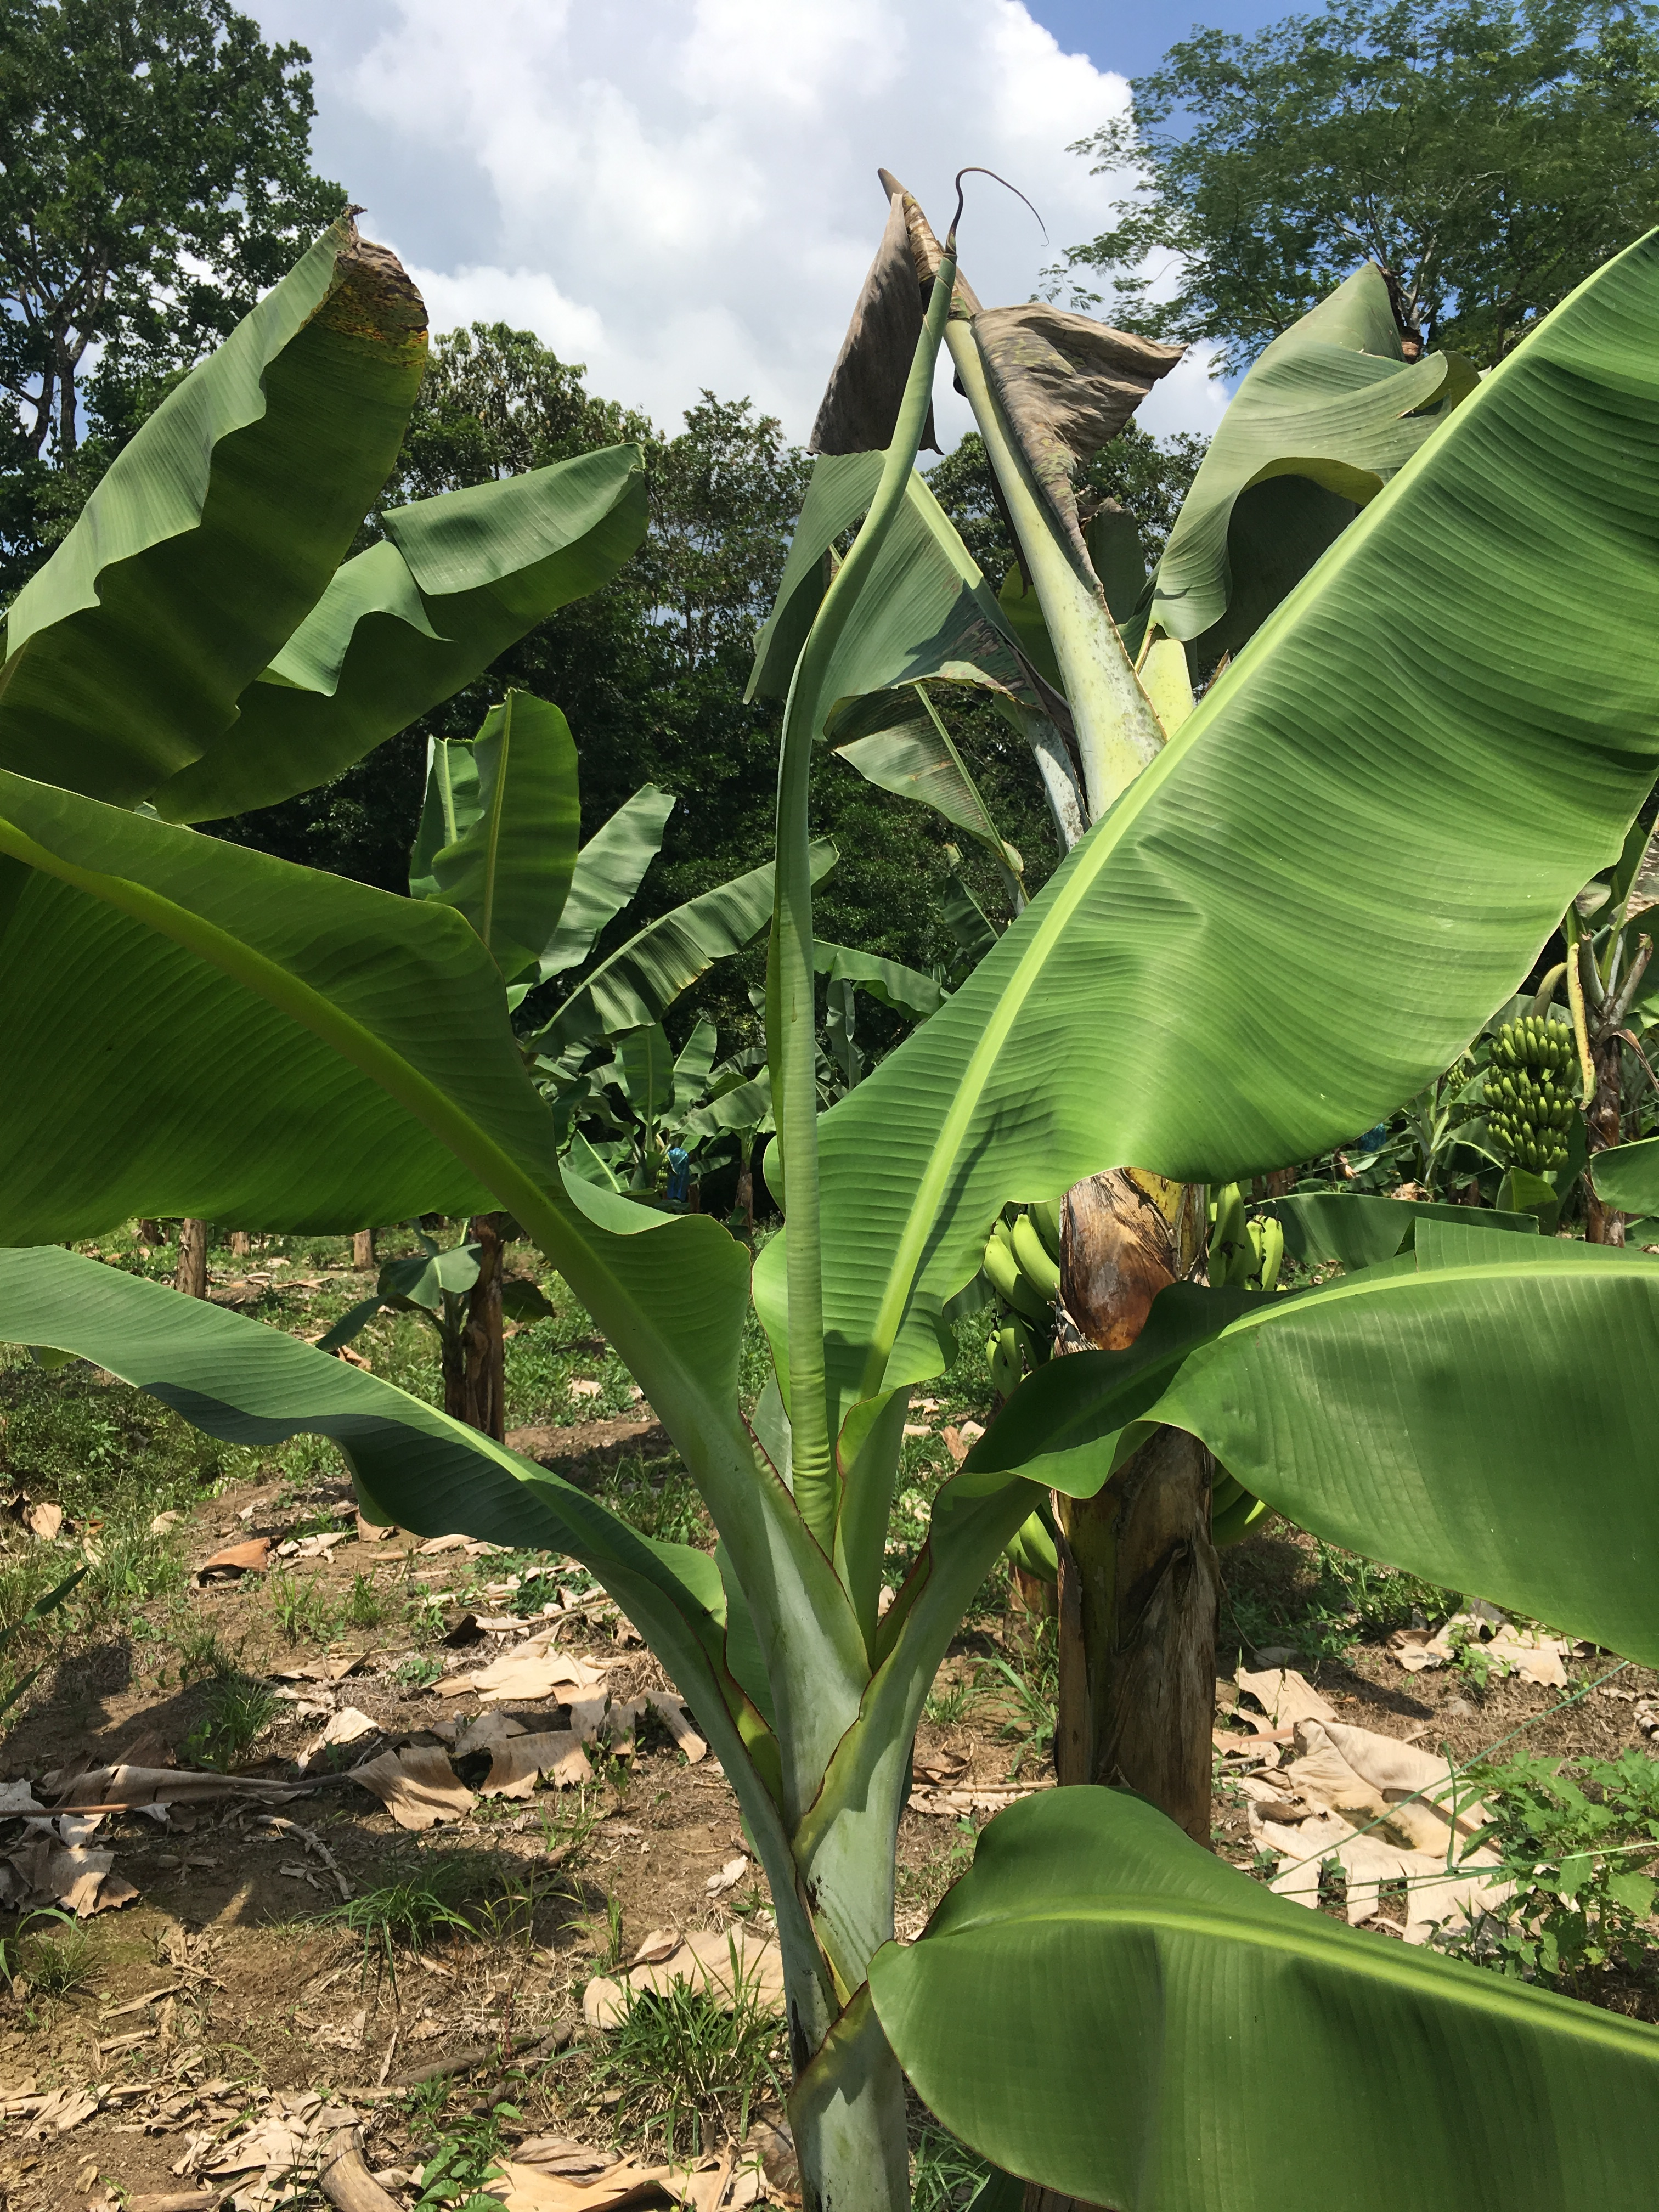candleleafs: (770, 172, 1040, 1468)
